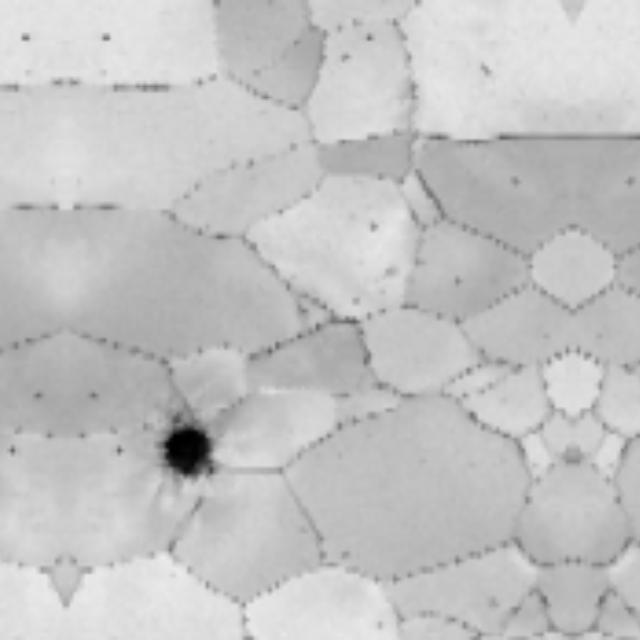good_void: (150, 409, 221, 496), (86, 383, 108, 406), (25, 383, 46, 406), (475, 60, 497, 79), (291, 300, 313, 318), (338, 49, 356, 65), (508, 172, 523, 191), (625, 172, 640, 191), (453, 273, 468, 290), (99, 29, 115, 43), (368, 218, 382, 234), (362, 29, 377, 43), (18, 29, 33, 43), (114, 441, 126, 456), (7, 441, 19, 456)
